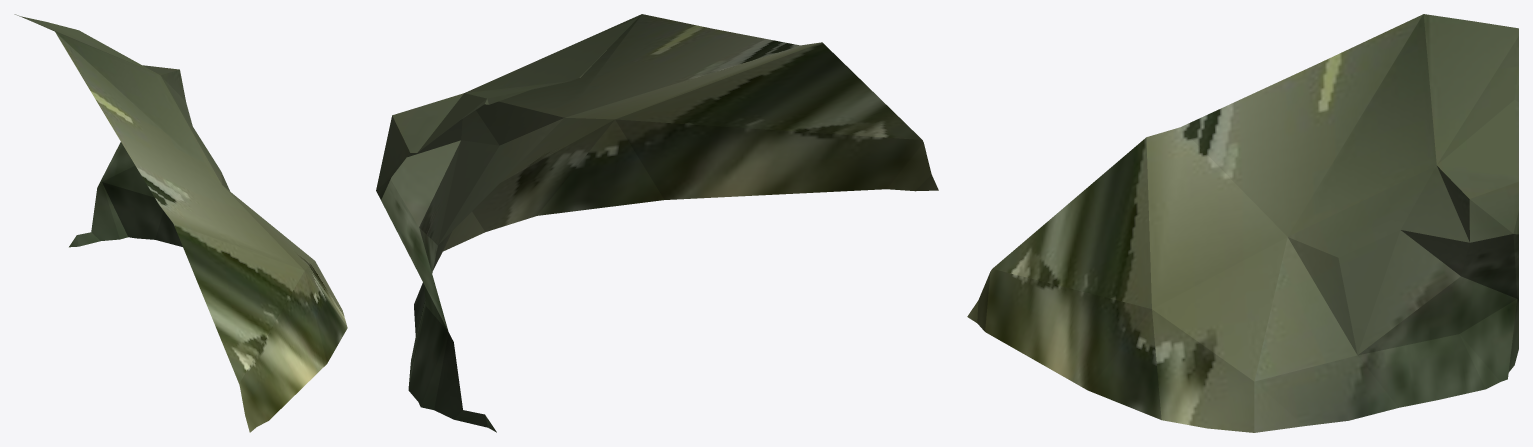
The picture shows the model from 3 angles, left to right: view 1: azimuth 30°, elevation 25°; view 2: azimuth 150°, elevation 25°; view 3: azimuth 270°, elevation 25°; orthographic projection. The views are drawn at different scales.
Size of the model in its own units: 0.9852 by 1.2 by 1.98.
Materials: 1 (1 with a texture image).
